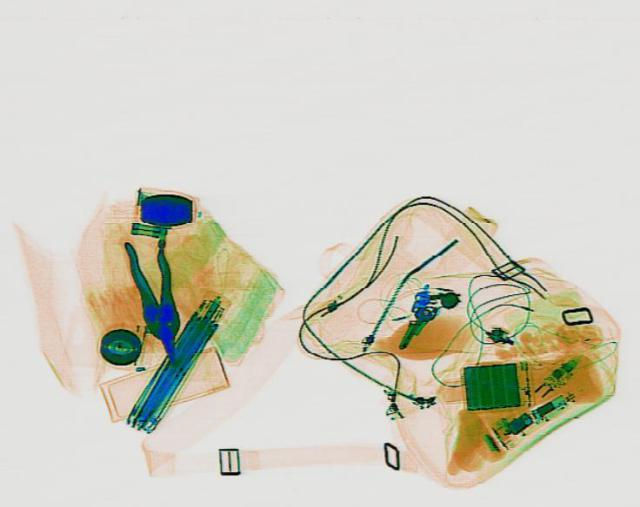Pliers: (120, 235, 193, 364)
